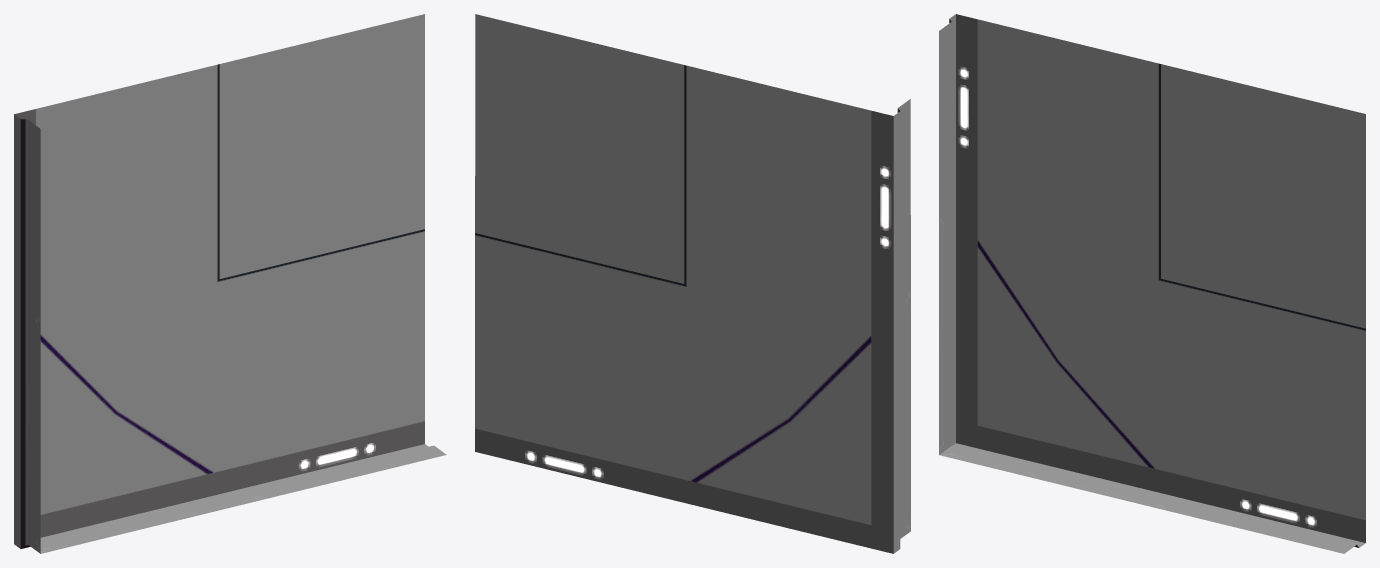
Rendered from SM_L_CornerSideWalk.fbx.
The picture shows the model from 3 angles, left to right: view 1: azimuth 30°, elevation 25°; view 2: azimuth 150°, elevation 25°; view 3: azimuth 330°, elevation 25°; orthographic projection. The views are drawn at different scales.
Visible parts, largest first — view 1: SM_L_CornerSideWalk; view 2: SM_L_CornerSideWalk; view 3: SM_L_CornerSideWalk.
Part boxes in pixels (<box>): SM_L_CornerSideWalk: <box>14,14,446,553</box>; SM_L_CornerSideWalk: <box>475,14,910,553</box>; SM_L_CornerSideWalk: <box>939,14,1365,553</box>.
Size of the model in its own units: 1151 by 1151 by 105.
